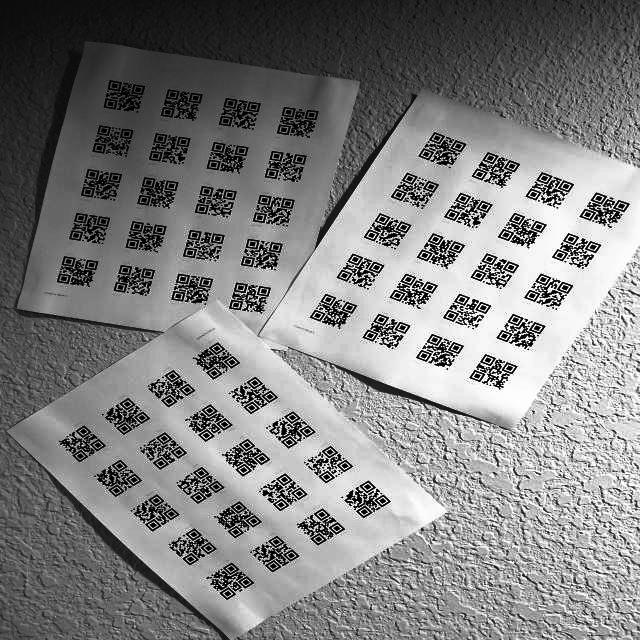qr_code: (550, 230, 609, 272), (577, 187, 632, 232), (466, 351, 523, 394), (96, 394, 153, 437), (522, 167, 576, 212), (142, 365, 197, 409), (95, 71, 148, 116), (385, 169, 443, 210), (91, 456, 145, 500), (256, 470, 311, 513), (493, 310, 550, 351), (295, 507, 352, 548), (153, 83, 206, 127), (205, 561, 259, 604), (269, 101, 325, 142), (332, 251, 388, 292), (339, 479, 395, 520), (415, 128, 468, 171), (440, 290, 494, 332), (440, 191, 498, 230), (358, 211, 413, 252), (304, 289, 359, 330), (300, 444, 355, 485), (248, 534, 304, 574), (53, 424, 109, 464), (387, 269, 440, 311), (496, 210, 550, 251), (414, 230, 468, 271), (226, 375, 280, 416), (181, 404, 235, 445), (220, 436, 274, 477), (137, 431, 191, 472), (210, 499, 264, 540), (210, 93, 265, 133), (523, 272, 578, 312), (127, 493, 182, 533), (166, 528, 221, 568), (467, 151, 523, 190), (263, 409, 317, 449), (191, 340, 243, 381), (188, 181, 241, 221), (468, 251, 521, 291), (258, 146, 312, 185), (172, 465, 226, 504), (248, 192, 303, 230), (85, 120, 137, 160), (70, 166, 126, 203), (361, 312, 411, 353), (234, 235, 287, 273), (413, 333, 466, 371), (50, 253, 103, 290), (63, 208, 112, 248), (177, 226, 227, 265), (119, 218, 170, 256), (227, 280, 274, 319), (200, 140, 252, 175), (108, 262, 158, 297), (133, 175, 180, 212), (166, 270, 213, 307), (143, 131, 191, 167)
